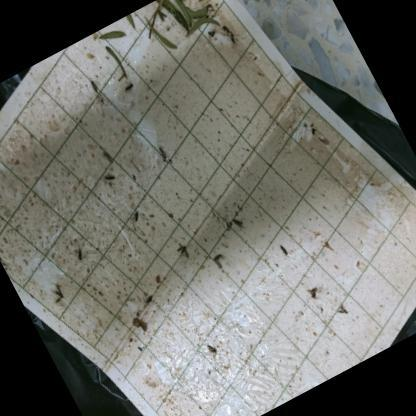prays_oleae: (171, 236, 197, 264), (48, 282, 74, 310), (150, 139, 174, 168), (210, 248, 235, 273), (302, 280, 323, 307), (140, 288, 160, 312), (204, 340, 224, 362), (98, 146, 118, 167), (230, 213, 249, 235), (74, 244, 90, 265), (128, 205, 144, 223)
